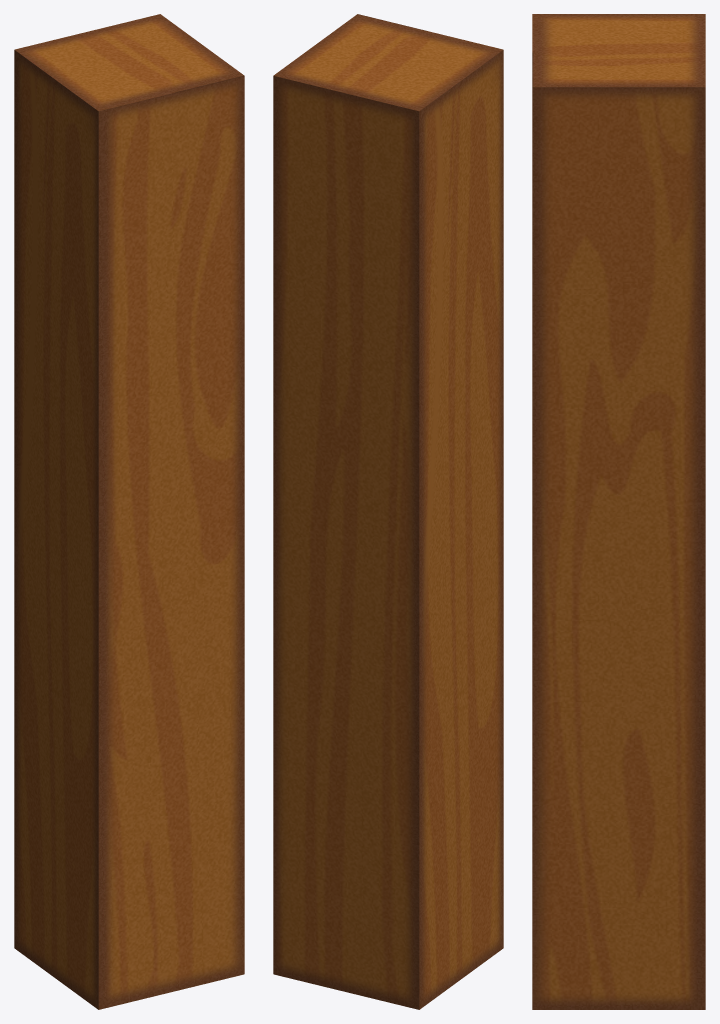
File: cerca_s_fbx.fbx
The picture shows the model from 3 angles, left to right: view 1: azimuth 30°, elevation 25°; view 2: azimuth 150°, elevation 25°; view 3: azimuth 270°, elevation 25°; orthographic projection. The views are drawn at different scales.
Parts seen in each view (by area): view 1: Box001; view 2: Box001; view 3: Box001.
Part boxes in pixels (bbox=[...]): Box001: bbox=[14, 14, 244, 1009]; Box001: bbox=[273, 14, 503, 1009]; Box001: bbox=[532, 14, 705, 1009].
Bounding box in the file's own units: 15 × 88.17 × 15.
1 material, 1 textured.
